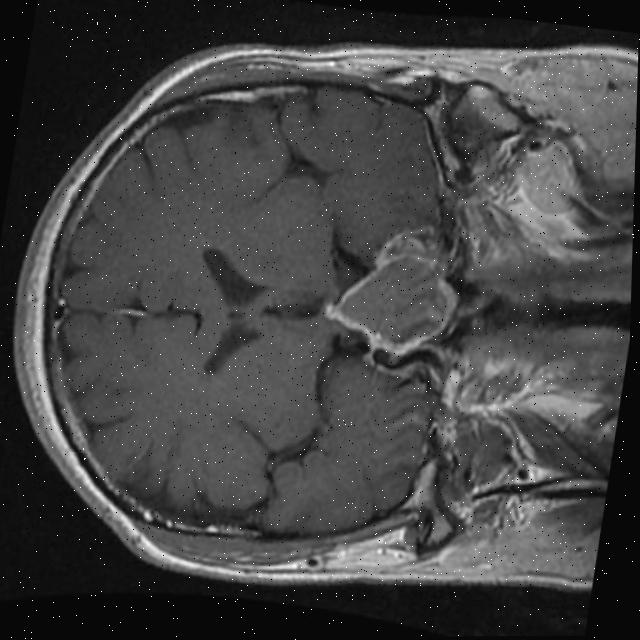Pituitary: (317, 240, 466, 362)
